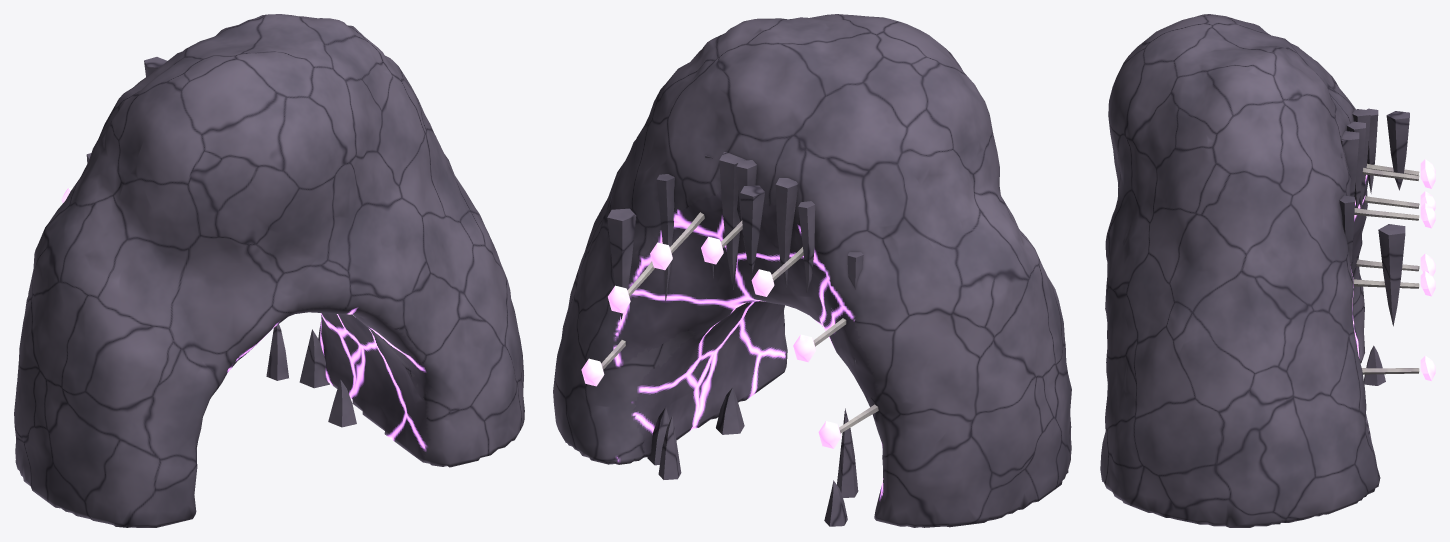
The model's file is cueva_entrada_natural.fbx.
3 views of the same model, side by side, from view 1: azimuth 30°, elevation 25°; view 2: azimuth 150°, elevation 25°; view 3: azimuth 270°, elevation 25° (orthographic). The views are drawn at different scales.
Visible parts, largest first — view 1: cueva; view 2: cueva, hongos_biolum; view 3: cueva, hongos_biolum.
Boxes of the visible parts, x1,y1,x2,y2 form: cueva: (14,14,524,527); cueva: (553,14,1071,527); hongos_biolum: (581,236,841,448); cueva: (1100,14,1419,527); hongos_biolum: (1420,159,1435,381).
Bounding box in the file's own units: 6 × 5 × 4.
Materials: 1 (1 with a texture image).
